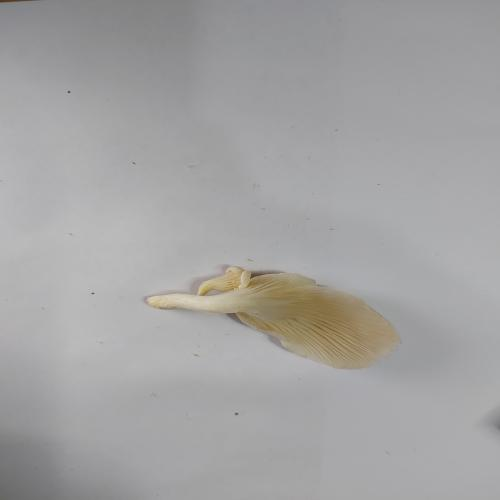Oyster Mushroom: (145, 265, 402, 370)
